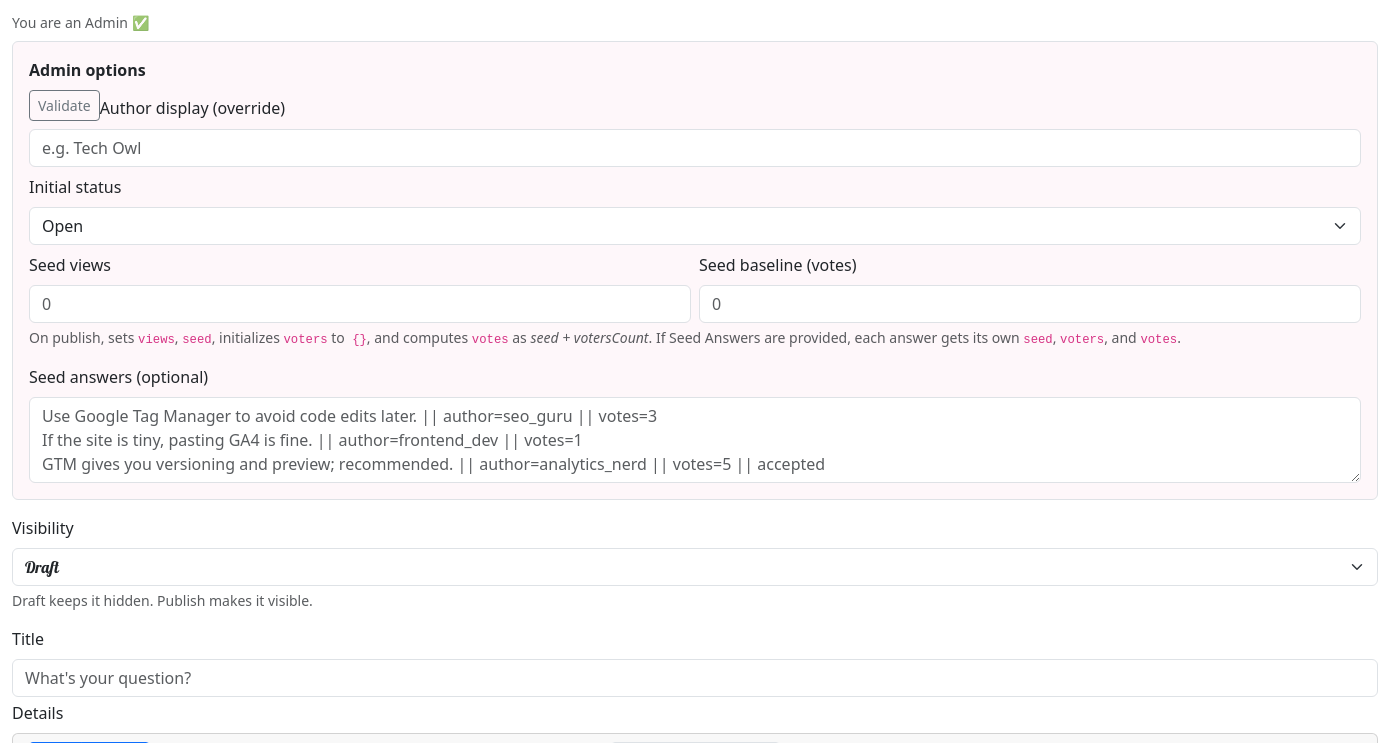
Test case: QuestionForm › admin Validate surfaces formatting issues
Expected: the text "You are an Admin ✅" is shown, top-left (12, 13), bottom-right (149, 32)
Replace the text in the text box with placeholder "Use Google Tag Manager" with " |||| " at (695, 440), box top-left (29, 397), bottom-right (1361, 483)
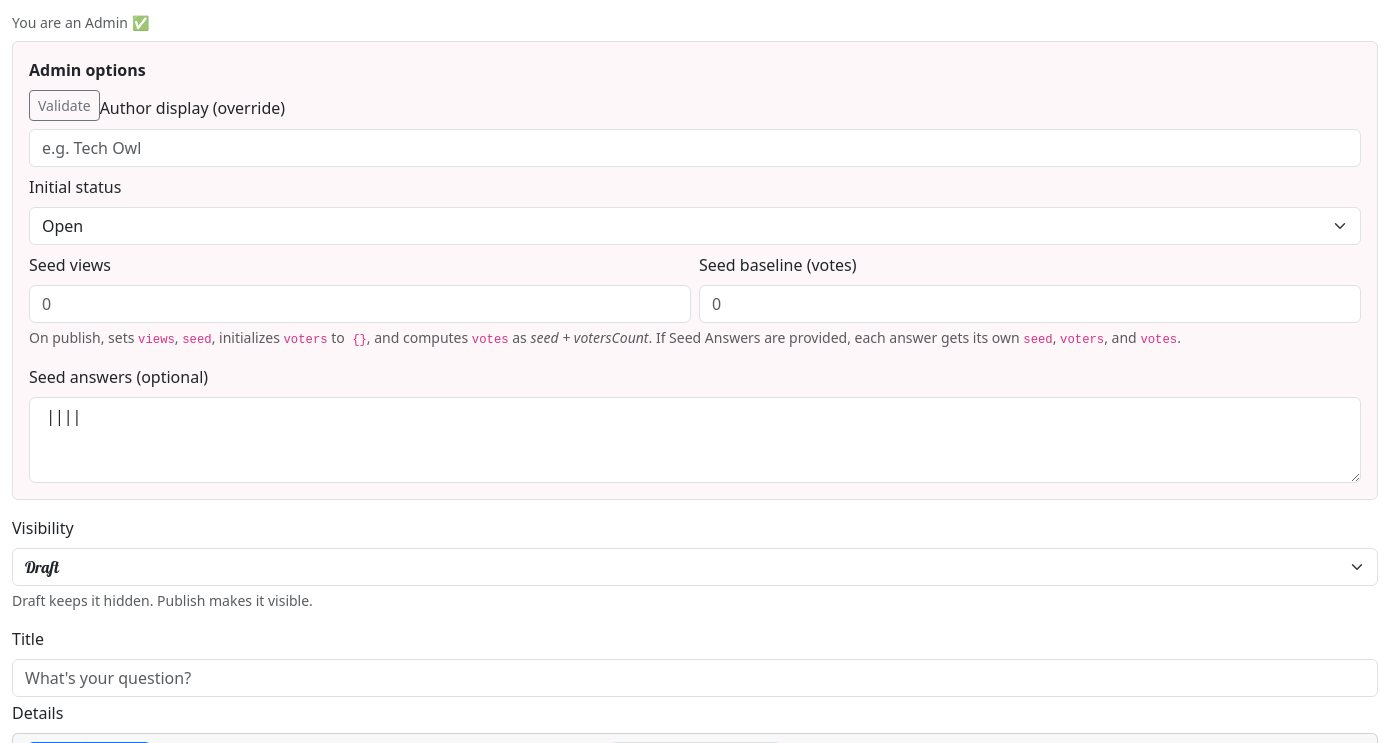
Click the button "Validate" at (64, 106), box top-left (29, 90), bottom-right (100, 121)
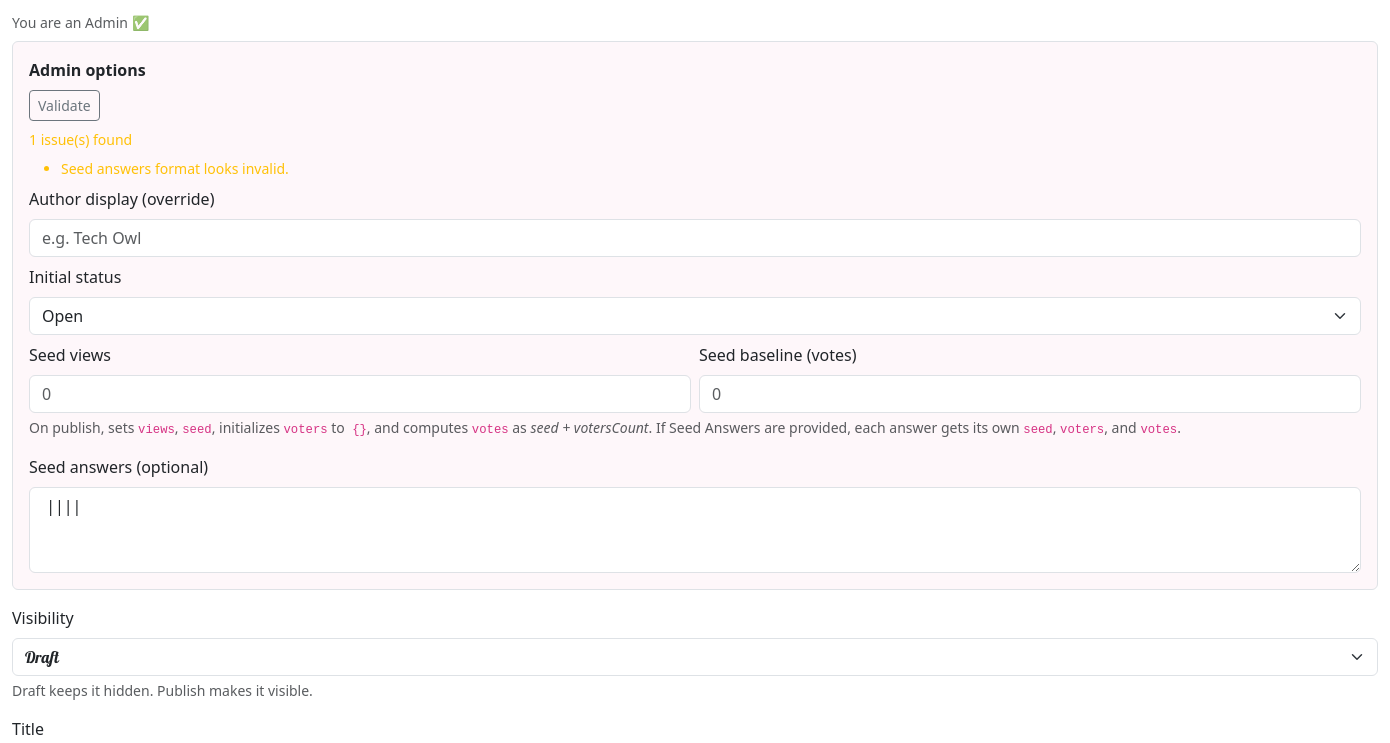
Expected: the text "1 issue(s) found" is shown, top-left (29, 130), bottom-right (132, 149)
